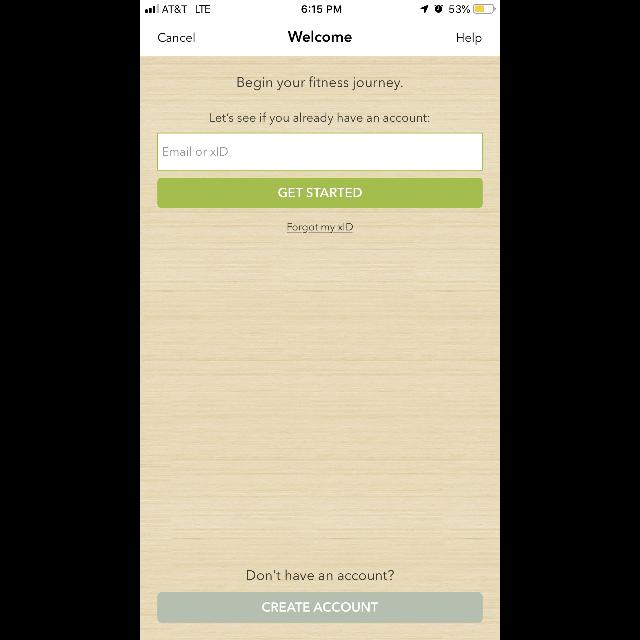input: (157, 133, 483, 171)
text: (210, 112, 430, 126), (238, 77, 402, 91), (246, 570, 394, 580), (288, 30, 352, 42), (287, 223, 353, 233), (164, 146, 228, 156), (158, 34, 196, 42), (457, 33, 481, 45)
textbutton: (158, 592, 482, 622), (158, 178, 482, 208)
uppertaskbar: (140, 0, 500, 14)
